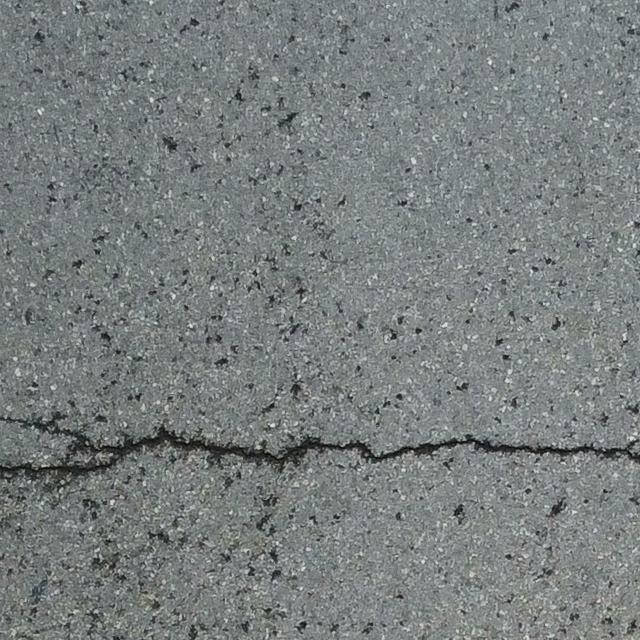TransverseCrack: (1, 413, 640, 480)
